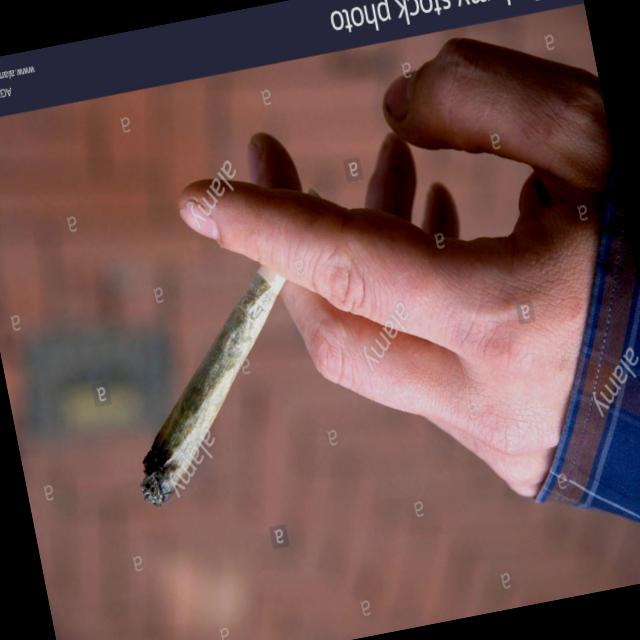smoke: (100, 264, 322, 508)
